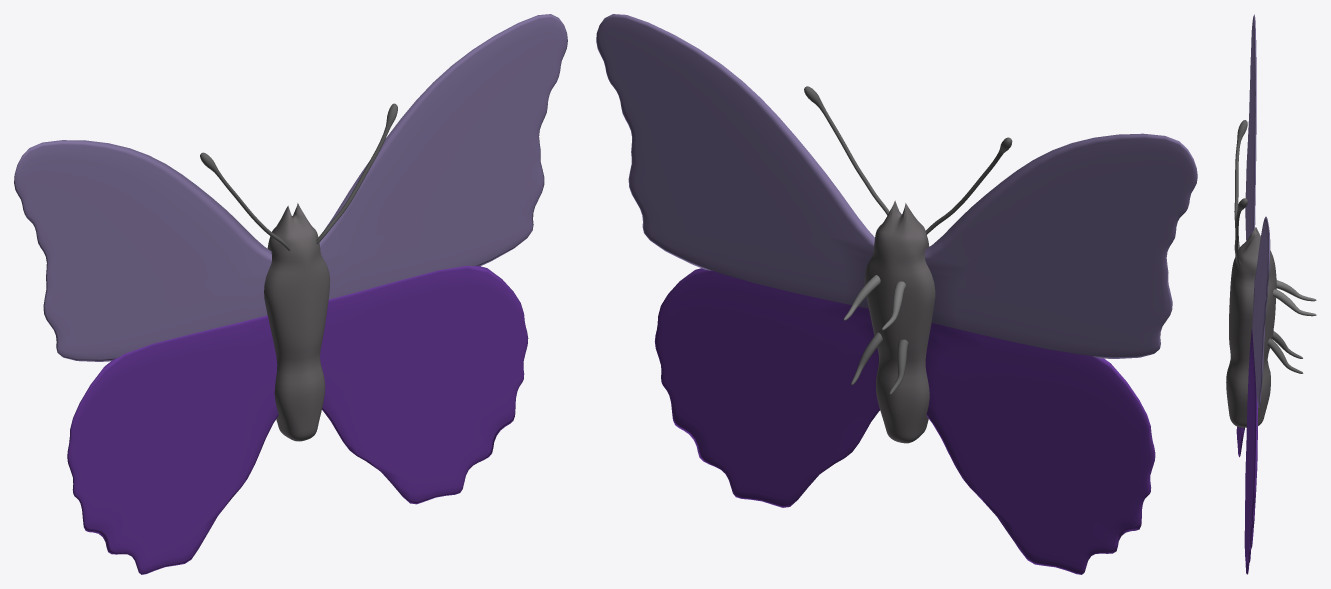
The model's file is painted2.fbx.
The picture shows the model from 3 angles, left to right: view 1: azimuth 30°, elevation 25°; view 2: azimuth 150°, elevation 25°; view 3: azimuth 270°, elevation 25°; orthographic projection. The views are drawn at different scales.
Parts seen in each view (by area): view 1: wing1, wing2, body, fühler; view 2: wing1, wing2, body, fühler, Cylinder.002, Cylinder.001; view 3: body, wing1, wing2, fühler, Cylinder.001, Cylinder.002.
Boxes of the visible parts, x1,y1,x2,y2 form: wing1: [14, 14, 567, 361]; wing2: [67, 265, 528, 574]; body: [264, 203, 330, 441]; fühler: [200, 103, 397, 250]; wing1: [596, 14, 1197, 358]; wing2: [654, 268, 1155, 574]; body: [864, 200, 935, 443]; fühler: [804, 86, 1012, 234]; Cylinder.002: [851, 332, 908, 394]; Cylinder.001: [843, 275, 905, 330]; body: [1226, 227, 1276, 427]; wing1: [1245, 14, 1270, 407]; wing2: [1236, 328, 1257, 574]; fühler: [1234, 120, 1247, 266]; Cylinder.001: [1273, 280, 1316, 316]; Cylinder.002: [1267, 331, 1303, 373].
Bounding box in the file's own units: 6.12 × 4.65 × 0.9944.
